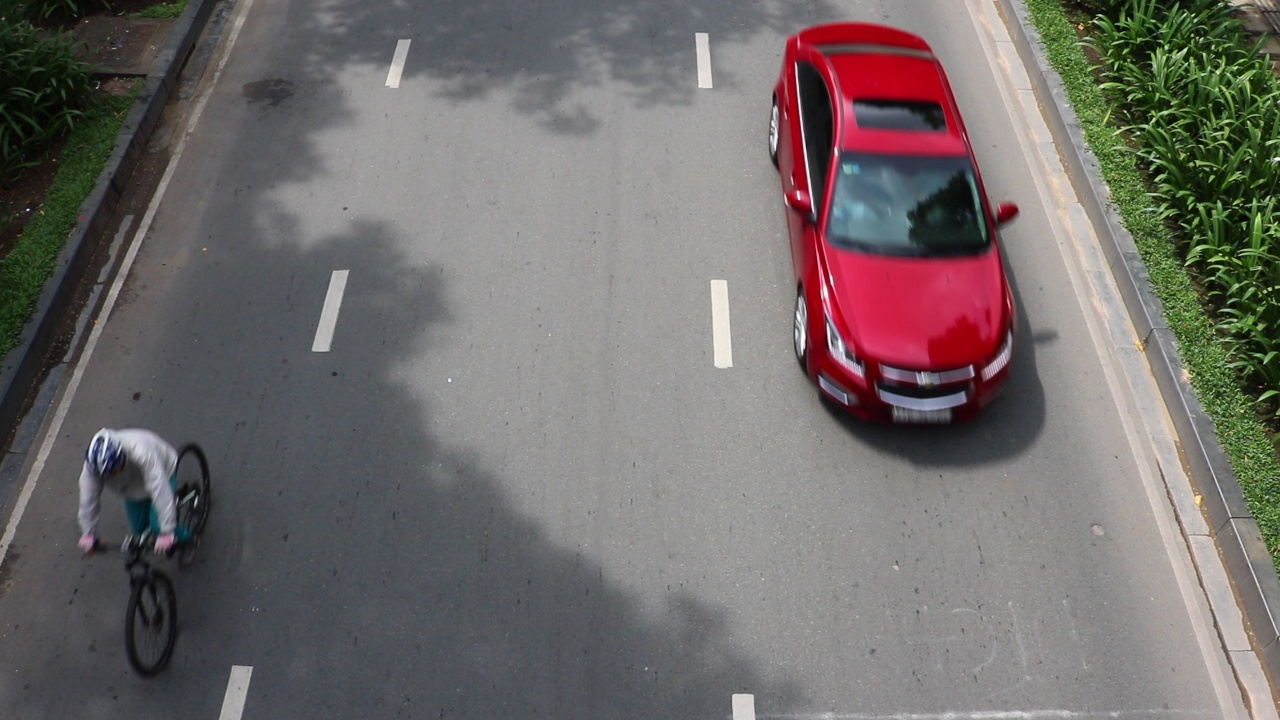bicycle: (116, 493, 220, 678)
car: (767, 21, 1023, 427)
